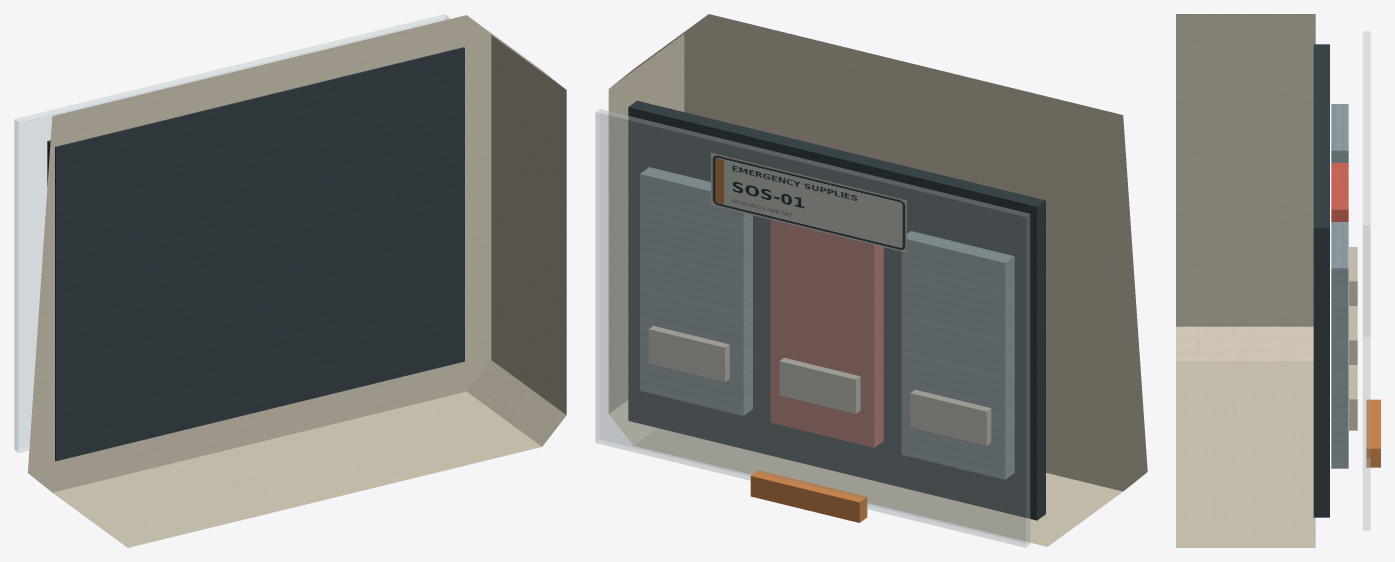
File: emergency_supply_lockbox.glb
3 renders of one model, left to right at view 1: azimuth 30°, elevation 25°; view 2: azimuth 150°, elevation 25°; view 3: azimuth 270°, elevation 25°, orthographic. The views are drawn at different scales.
Visible parts, largest first — view 1: Interior__graphite, Lockbox_Housing__cream, Lockbox_Door__clear; view 2: Lockbox_Door__clear, Lockbox_Housing__cream, Interior__graphite, Emergency_Kit__alloy, Emergency_Kit__red, static__label_SOS-01, Emergency_Kit__cream, Tamper_Seal__amber; view 3: Lockbox_Housing__cream, Interior__graphite, Emergency_Kit__alloy, Lockbox_Door__clear, Emergency_Kit__cream, Emergency_Kit__red, Tamper_Seal__amber.
Part boxes in pixels (x1=…): Interior__graphite: x1=47, y1=47, x2=464, y2=461; Lockbox_Housing__cream: x1=28, y1=15, x2=566, y2=547; Lockbox_Door__clear: x1=14, y1=14, x2=448, y2=452; Lockbox_Door__clear: x1=595, y1=109, x2=1029, y2=547; Lockbox_Housing__cream: x1=608, y1=14, x2=1147, y2=546; Interior__graphite: x1=628, y1=100, x2=1045, y2=520; Emergency_Kit__alloy: x1=640, y1=167, x2=1014, y2=479; Emergency_Kit__red: x1=770, y1=220, x2=883, y2=447; static__label_SOS-01: x1=711, y1=152, x2=906, y2=252; Emergency_Kit__cream: x1=648, y1=326, x2=991, y2=445; Tamper_Seal__amber: x1=750, y1=470, x2=867, y2=522; Lockbox_Housing__cream: x1=1176, y1=14, x2=1315, y2=547; Interior__graphite: x1=1313, y1=44, x2=1329, y2=517; Emergency_Kit__alloy: x1=1331, y1=104, x2=1348, y2=468; Lockbox_Door__clear: x1=1363, y1=31, x2=1370, y2=530; Emergency_Kit__cream: x1=1349, y1=247, x2=1357, y2=430; Emergency_Kit__red: x1=1331, y1=163, x2=1348, y2=221; Tamper_Seal__amber: x1=1366, y1=399, x2=1380, y2=467.
Bounding box in the file's own units: 0.85 × 0.66 × 0.3525.
Materials: 7 (6 with a texture image).
